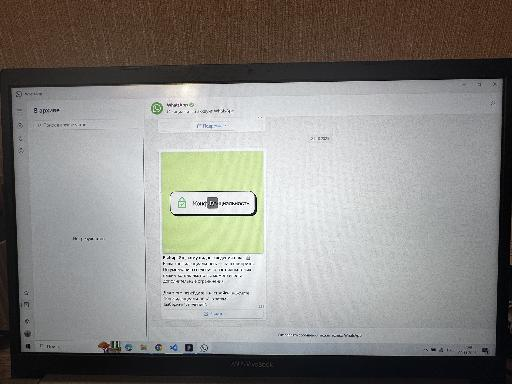whatsapp: (13, 90, 500, 339)
